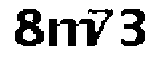3: (117, 5, 149, 50)
7: (94, 3, 115, 37)
8: (11, 4, 46, 51)
m: (48, 14, 97, 54)
